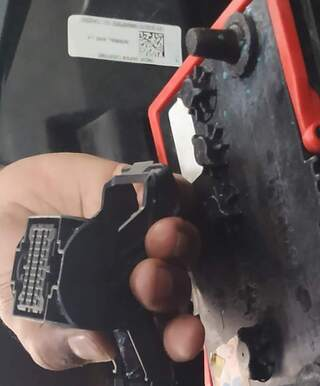connector: (11, 215, 127, 327)
